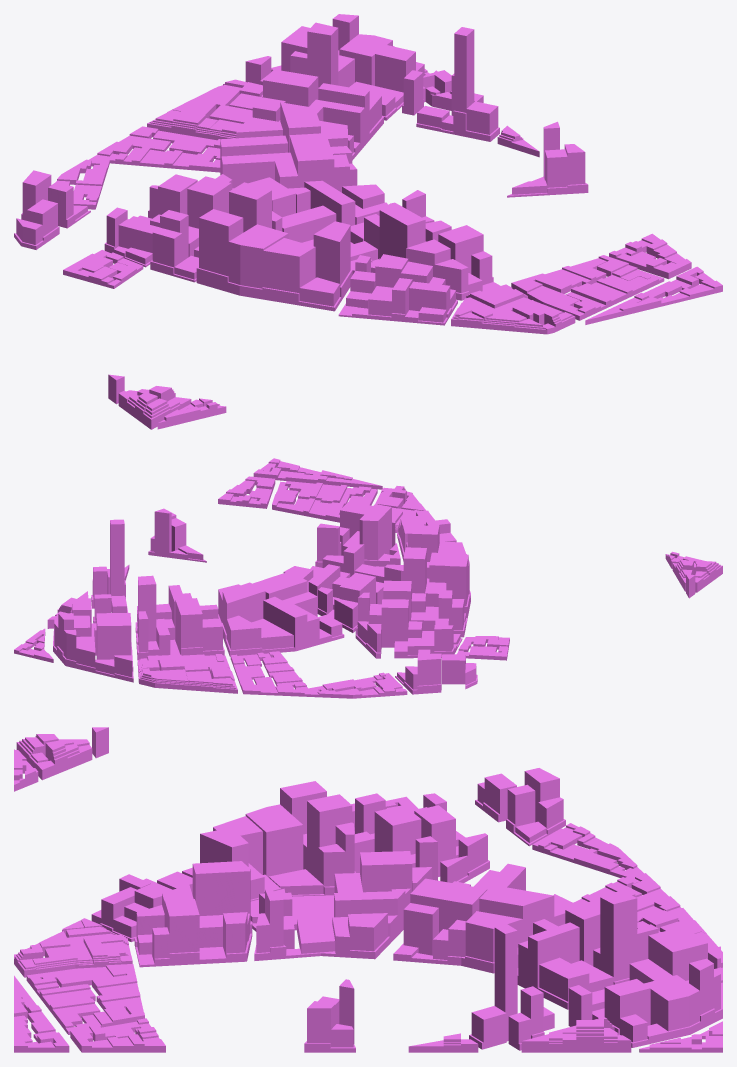
File: buildings_00204.obj
3 views of the same model, one above another, from view 1: azimuth 30°, elevation 25°; view 2: azimuth 150°, elevation 25°; view 3: azimuth 270°, elevation 25° (orthographic). The views are drawn at different scales.
Size of the model in its own units: 1500 by 252 by 1500.
